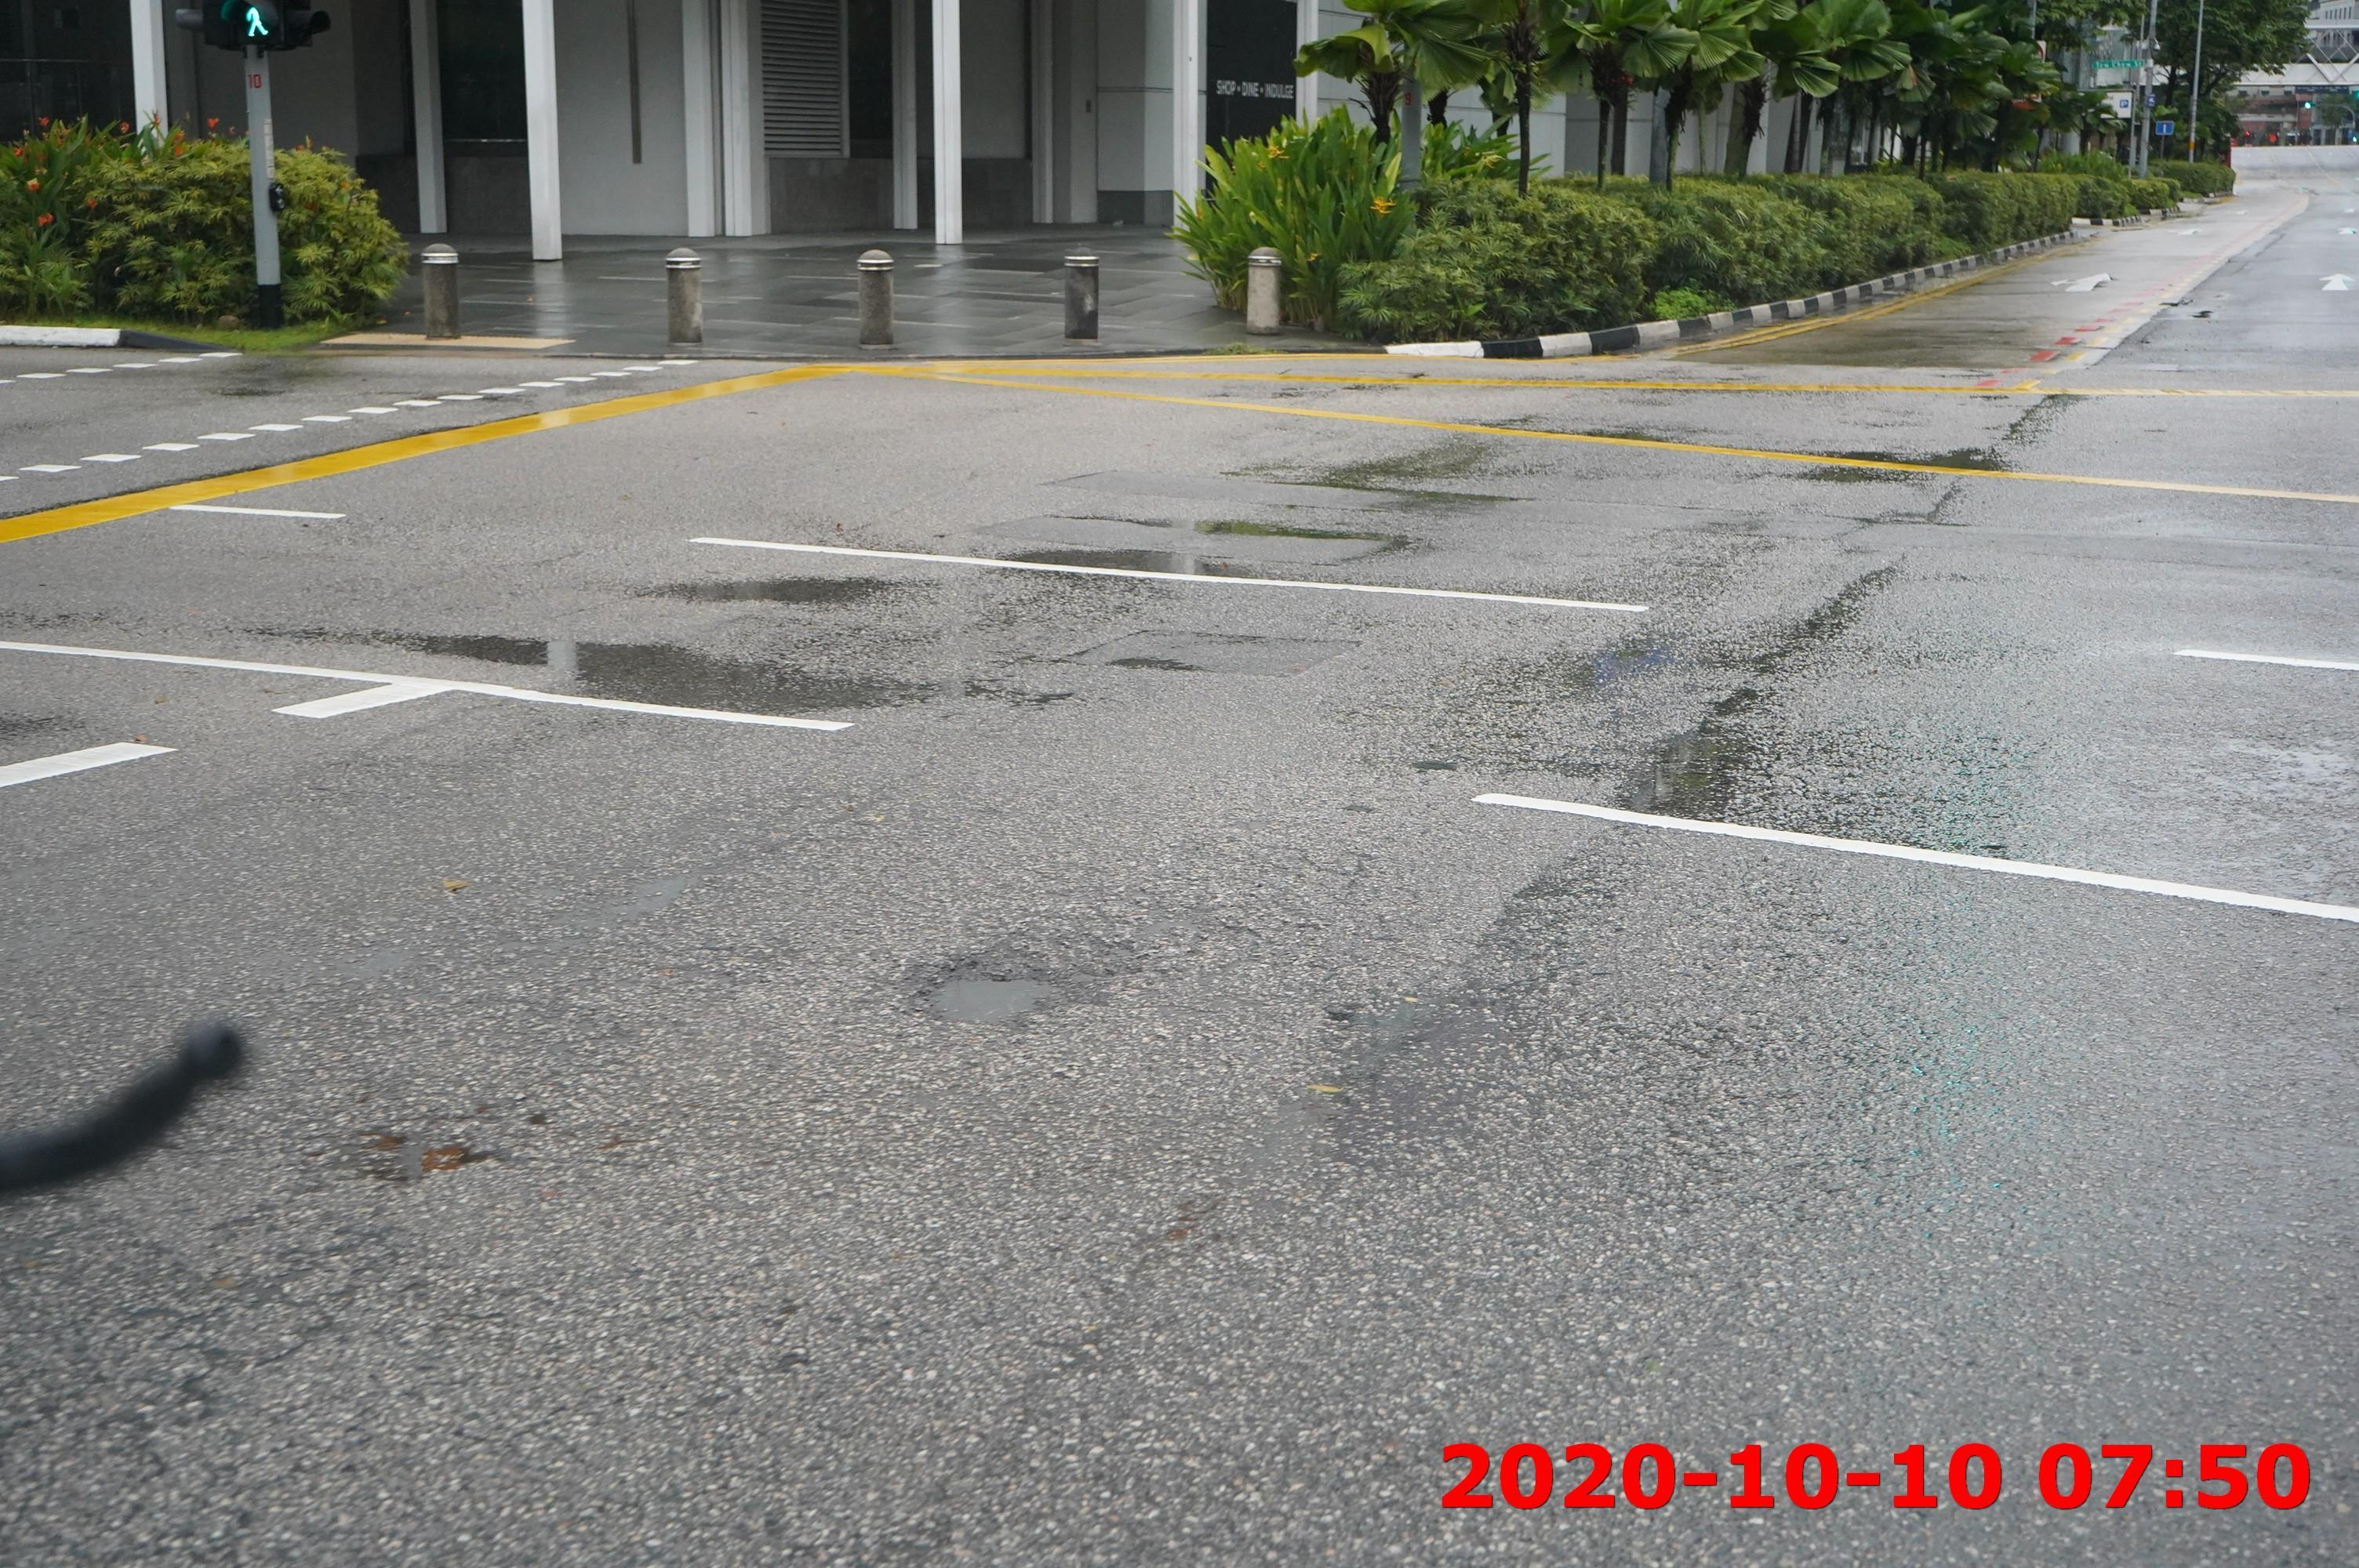peel off with cracks: (1393, 553, 1928, 817)
peeling off premix: (310, 1118, 516, 1194)
pothole with crack: (899, 954, 1078, 1045)
